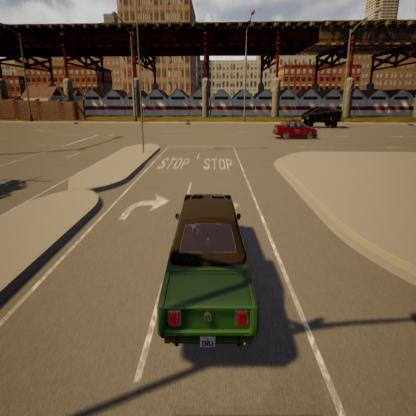Cars: (159, 193, 259, 354), (273, 116, 318, 140), (303, 104, 343, 130)
